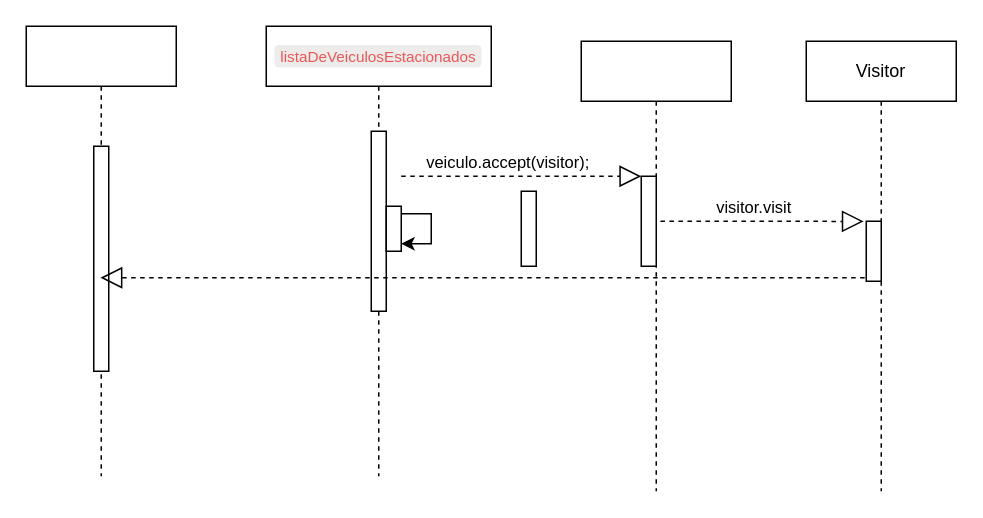
The diagram is 983 pixels wide and 518 high, and some of its shapes have lost their labels. Here are the shapes that lost their labels. From the top down, the box of each, then its label:
(25, 25, 176, 476): main
(580, 40, 731, 491): Veiculo
